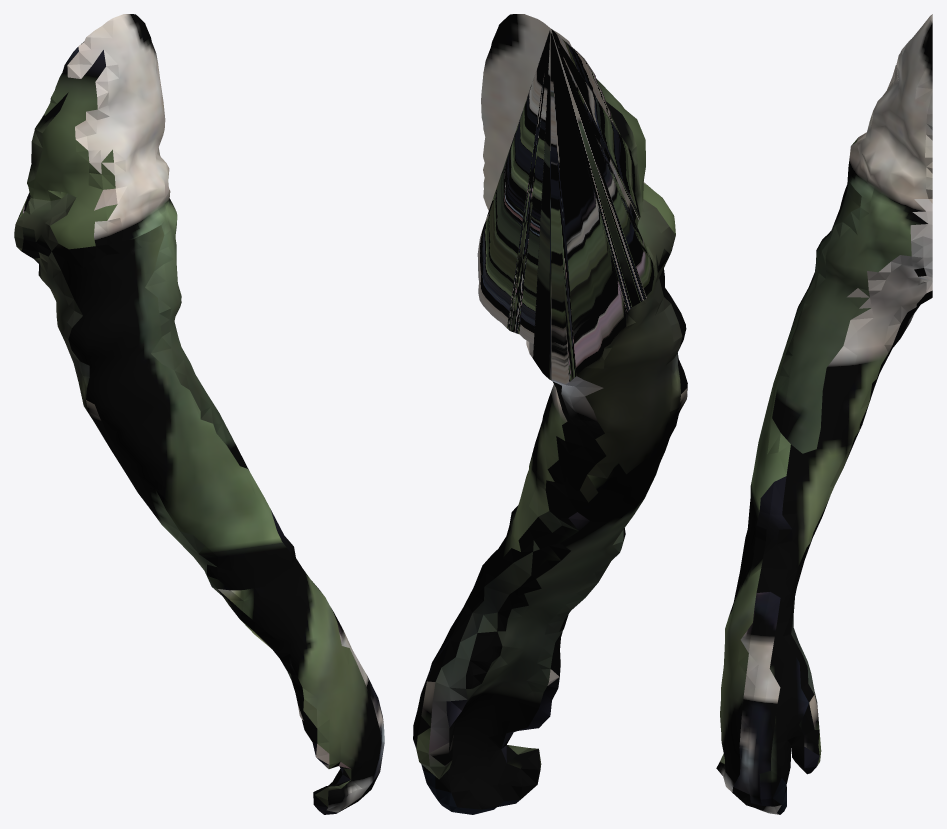
File: maxiArmR.fbx
3 renders of one model, left to right at view 1: azimuth 30°, elevation 25°; view 2: azimuth 150°, elevation 25°; view 3: azimuth 270°, elevation 25°, orthographic. The views are drawn at different scales.
Parts seen in each view (by area): view 1: Model.001; view 2: Model.001; view 3: Model.001.
Boxes of the visible parts, x1,y1,x2,y2 form: Model.001: (14,14,384,814); Model.001: (413,14,687,814); Model.001: (716,14,932,814).
Bounding box in the file's own units: 25.64 × 65.72 × 17.63.
